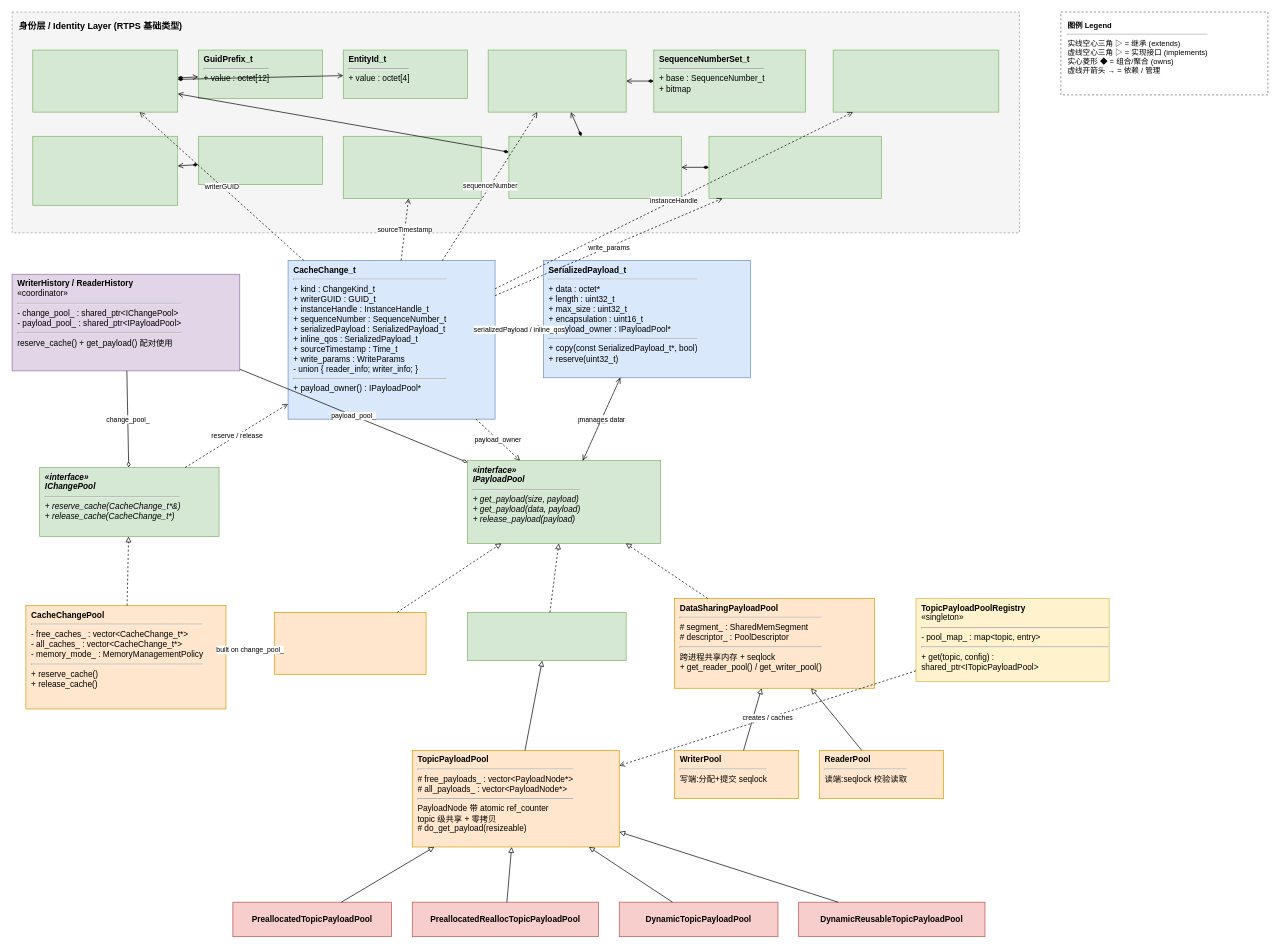
The diagram is 1280 pixels wide and 949 high, and some of its shapes have lost their labels. The centre of each missing label's shape, as x and y in pixels:
"BasicPayloadPool 搭 CacheChangePool 复用 内含 detail::Impl<policy> 特化" belongs at (350,643).
"GUID_t + guidPrefix : GuidPrefix_t + entityId : EntityId_t" belongs at (105,80).
"InstanceHandle_t + value : octet[16] (实例 key 句柄)" belongs at (915,80).
"Locator_t + kind : int32_t + port : uint32_t + address : octet[16]" belongs at (105,170).
"LocatorList_t + vector<Locator_t>" belongs at (260,160).
"SampleIdentity + writer_guid_ : GUID_t + sequence_number_ : SequenceNumber_t" belongs at (594,167).
"SequenceNumber_t + high : int32_t + low : uint32_t" belongs at (556,80).
"Time_t / Duration_t + seconds : int32_t + fraction : uint32_t" belongs at (412,167).
"WriteParams + sample_identity : SampleIdentity + related_sample_identity" belongs at (794,167).
"«interface» ITopicPayloadPool" belongs at (546,636).
